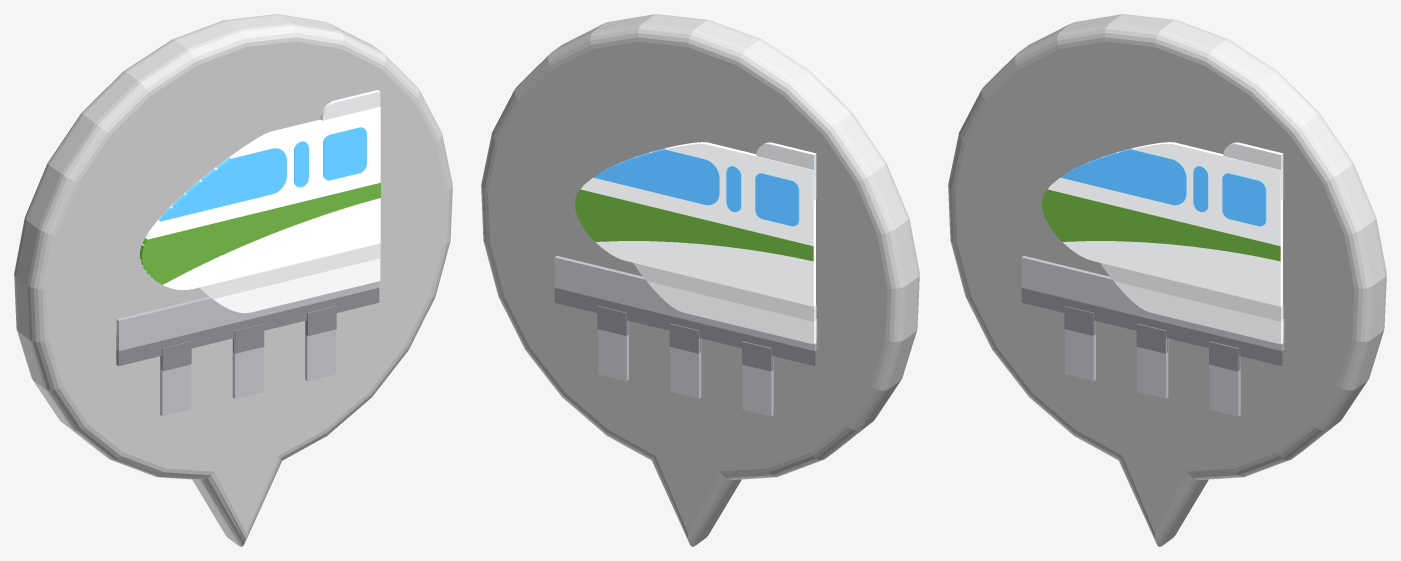
Rendered from monorail.glb.
3 renders of one model, left to right at view 1: azimuth 30°, elevation 25°; view 2: azimuth 150°, elevation 25°; view 3: azimuth 330°, elevation 25°, orthographic.
Parts seen in each view (by area): view 1: EmotionBubble; view 2: EmotionBubble; view 3: EmotionBubble.
Part boxes in pixels (left/top/right/bottom): EmotionBubble: left=14, top=14, right=452, bottom=546; EmotionBubble: left=481, top=14, right=919, bottom=546; EmotionBubble: left=948, top=14, right=1386, bottom=546.
Size of the model in its own units: 5.29 by 6.16 by 0.76.
